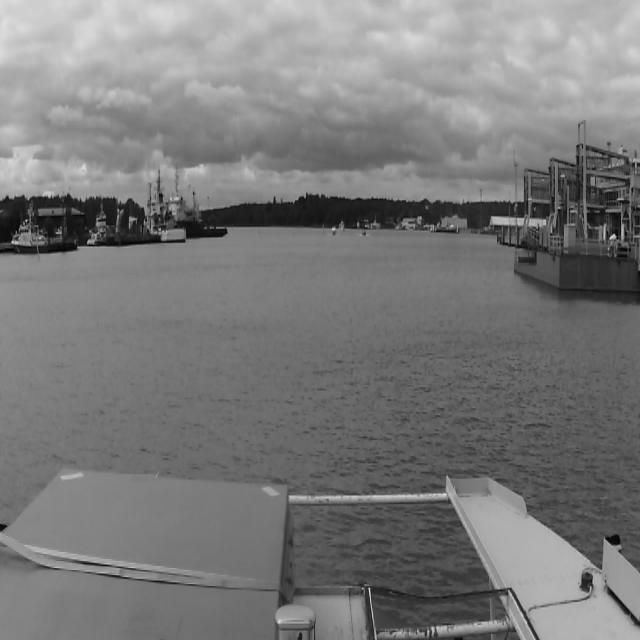buoy: (322, 223, 324, 235)
ship: (146, 162, 186, 244), (339, 220, 345, 234), (332, 227, 336, 236), (361, 230, 366, 237)
